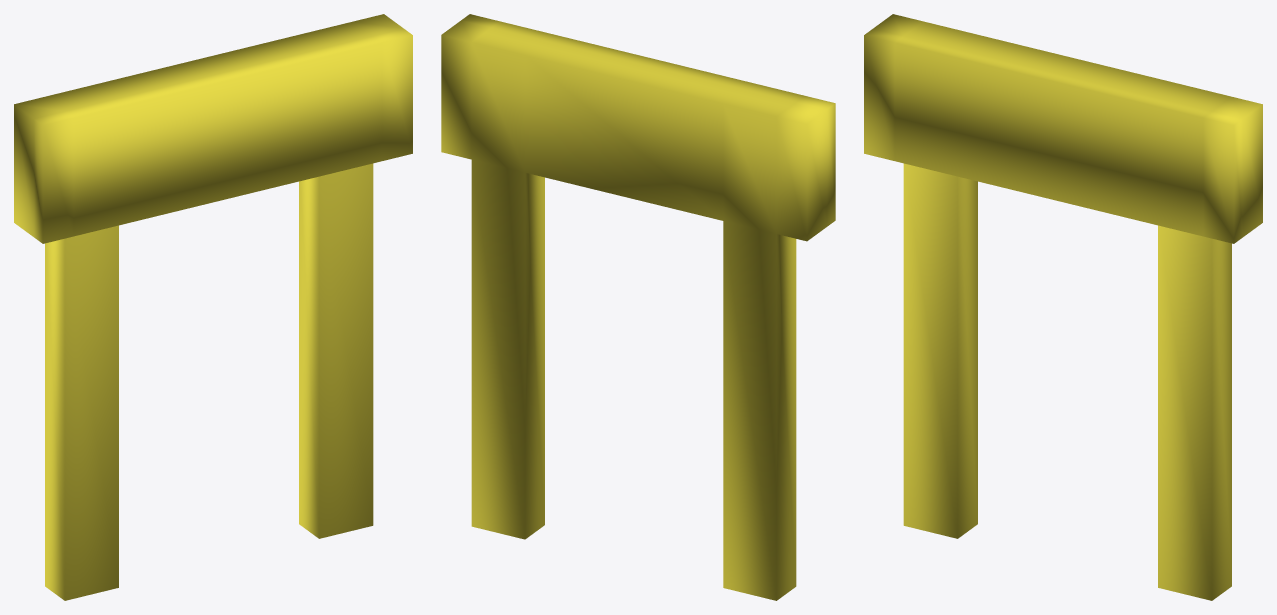
The model's file is Barrier.fbx.
3 renders of one model, left to right at view 1: azimuth 30°, elevation 25°; view 2: azimuth 150°, elevation 25°; view 3: azimuth 330°, elevation 25°, orthographic.
Visible parts, largest first — view 1: Cube.009; view 2: Cube.009; view 3: Cube.009.
Boxes of the visible parts, <box> form: Cube.009: <box>14,14,412,600</box>; Cube.009: <box>441,14,835,600</box>; Cube.009: <box>864,14,1262,600</box>.
Size of the model in its own units: 240 by 303 by 32.53.
